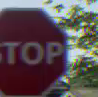Stop: (0, 3, 72, 96)
